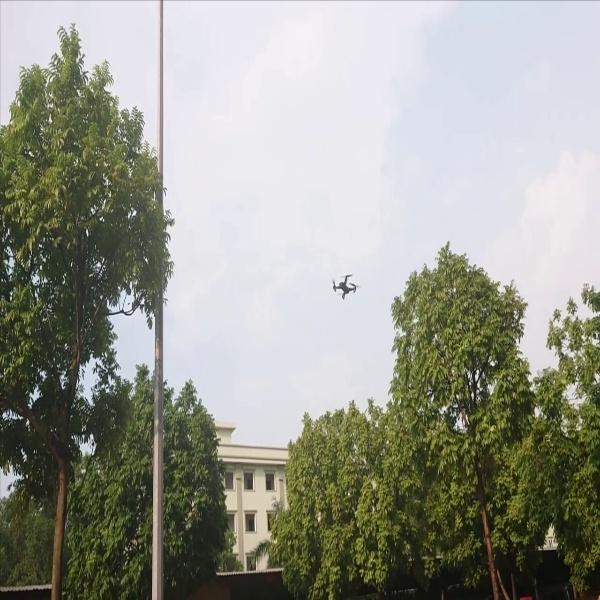drone: (323, 267, 365, 304)
